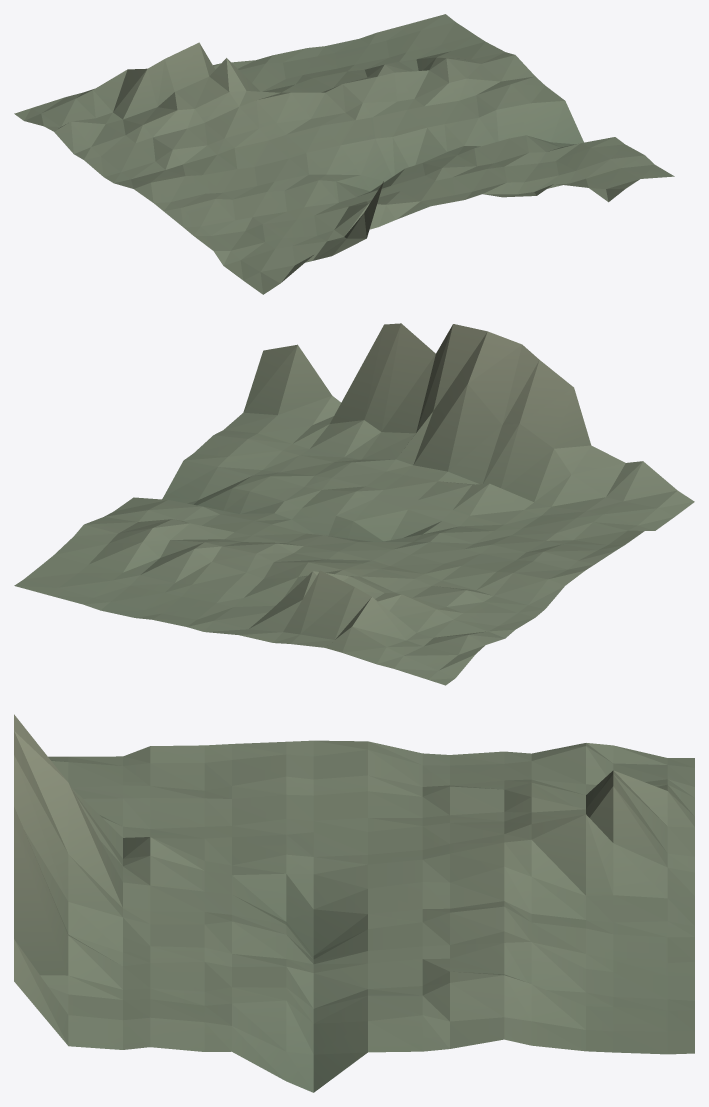
File: tile_2_1.glb
The picture shows the model from 3 angles, top to bottom: view 1: azimuth 30°, elevation 25°; view 2: azimuth 150°, elevation 25°; view 3: azimuth 270°, elevation 25°; orthographic projection. The views are drawn at different scales.
Visible parts, largest first — view 1: geometry_0; view 2: geometry_0; view 3: geometry_0.
Part boxes in pixels (box(x1,y1,x2,y2)): geometry_0: box(14, 14, 674, 294); geometry_0: box(14, 323, 694, 685); geometry_0: box(14, 714, 694, 1092).
Size of the model in its own units: 123 by 42.22 by 123.
